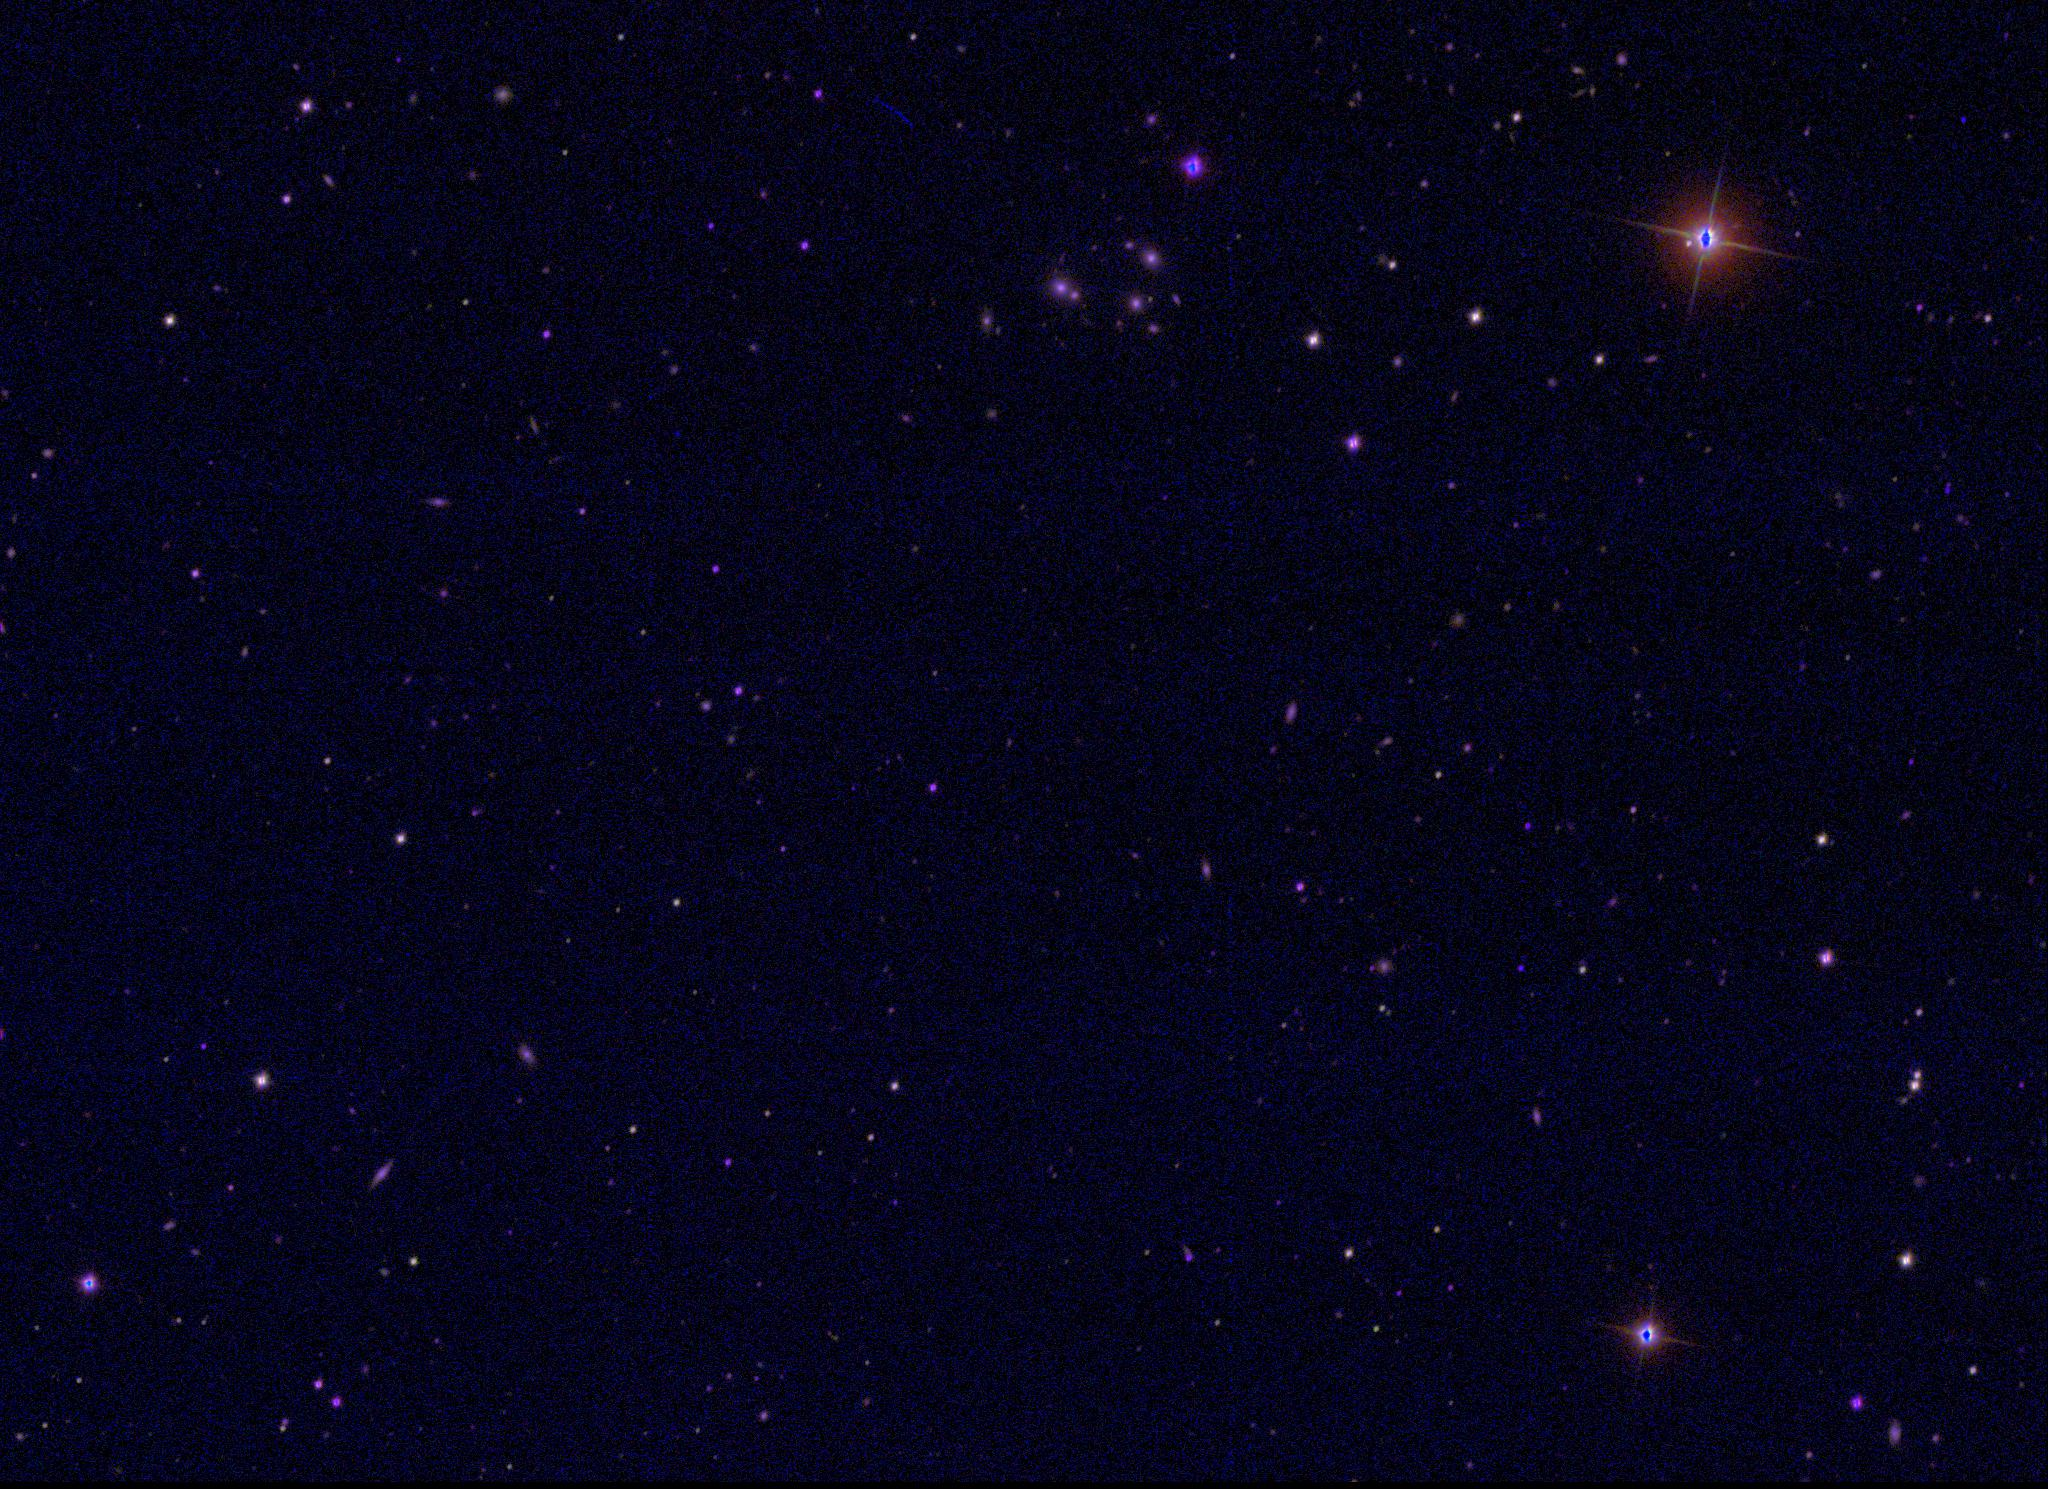L: (1957, 113, 1972, 127)
